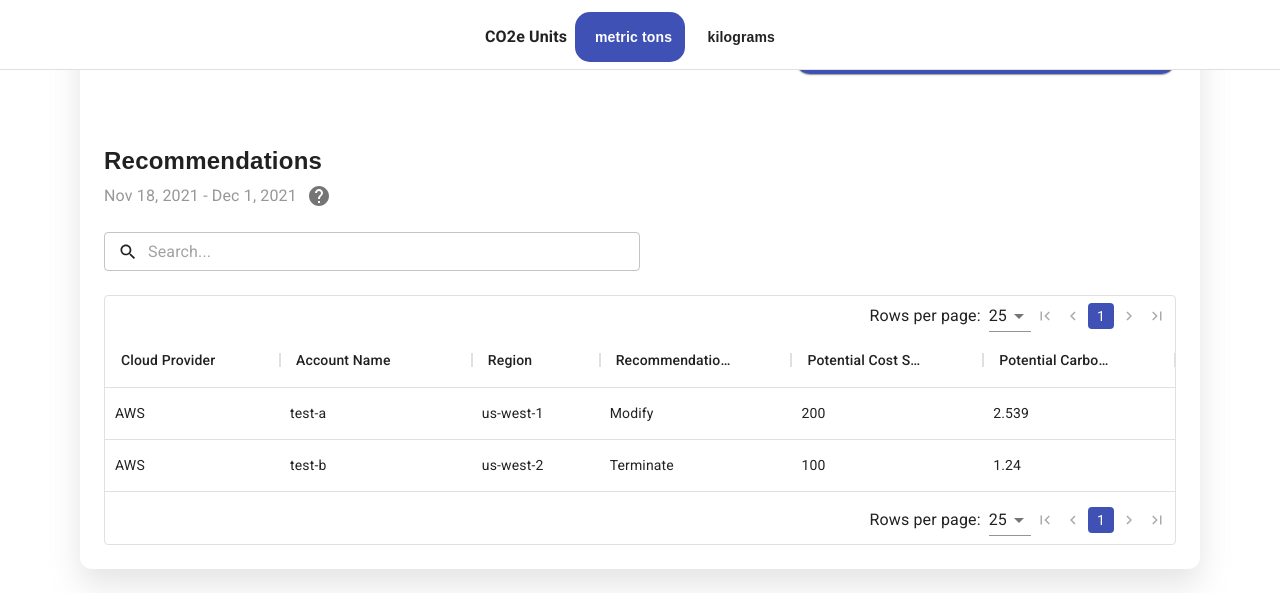
Recommendations Page › displays a selected recommendation in a side panel when its row is clicked
The image size is (1280, 593).
(page scrolled)
Step 1. Click the text "test-a" → (376, 414), box [280,388,472,440]
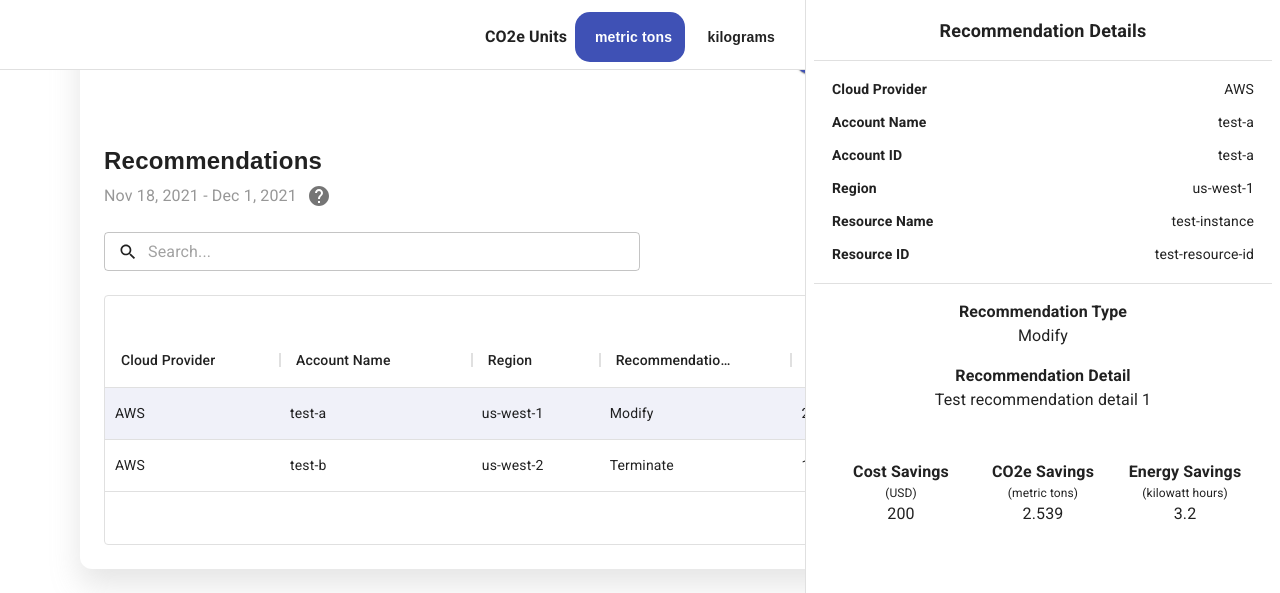
Expected: the heading "Recommendation Details" is shown, [940,20,1146,41]
Expected: the text "Test recommendation detail 1" is shown, [935,388,1151,412]
